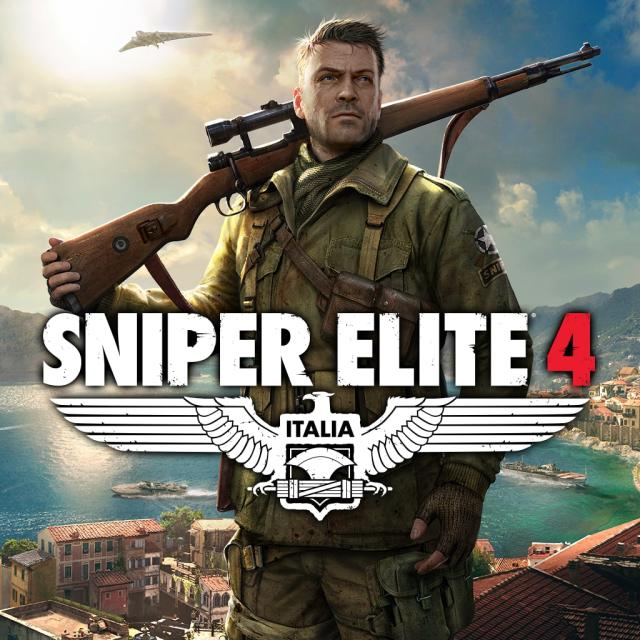Weapon: (44, 38, 606, 321)
